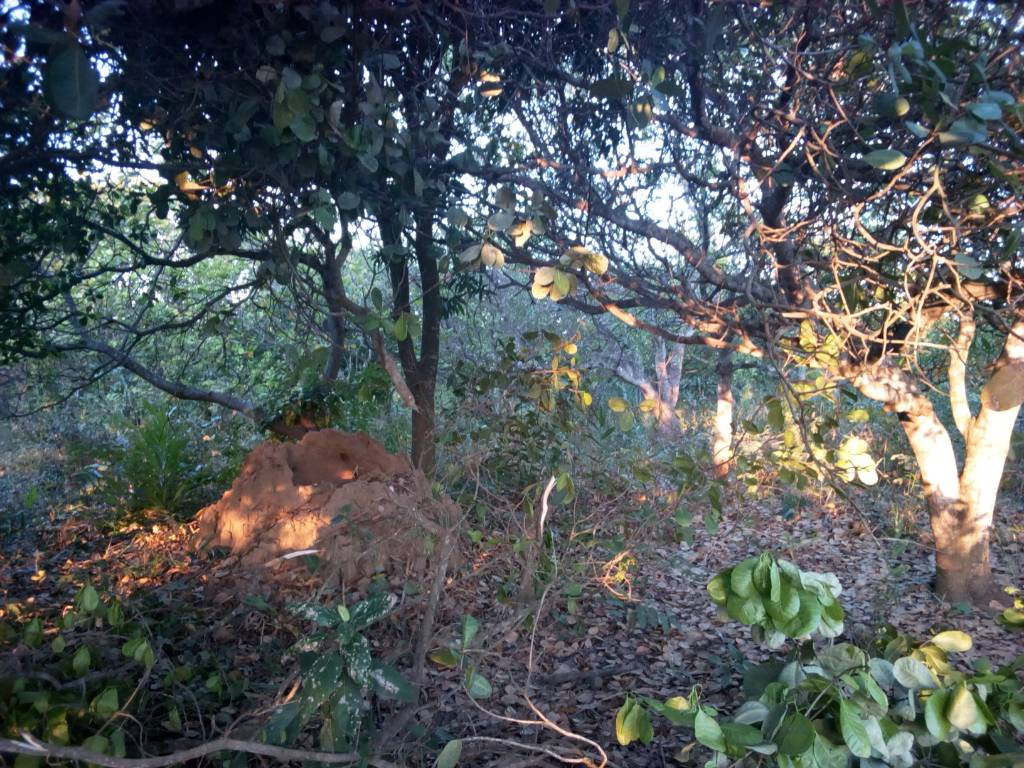Termites: (233, 433, 452, 580)
